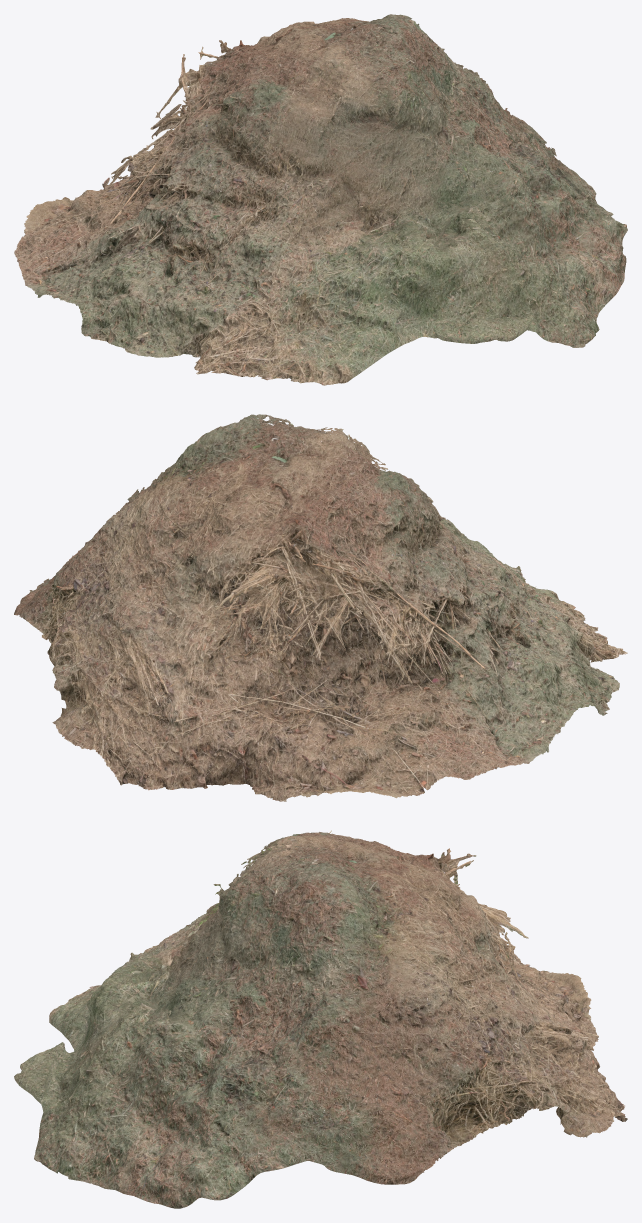
Rendered from sf-garden-grass-dump-73735e.glb.
The picture shows the model from 3 angles, top to bottom: view 1: azimuth 30°, elevation 25°; view 2: azimuth 150°, elevation 25°; view 3: azimuth 270°, elevation 25°; orthographic projection. The views are drawn at different scales.
Parts seen in each view (by area): view 1: Model_material0_0, Model_material1_0, Model_material2_0; view 2: Model_material0_0, Model_material1_0, Model_material2_0; view 3: Model_material0_0, Model_material2_0, Model_material1_0.
Boxes of the visible parts, box(x1,y1,x2,y2) form: Model_material0_0: box(15, 18, 627, 373); Model_material1_0: box(35, 14, 608, 385); Model_material2_0: box(14, 15, 613, 381); Model_material0_0: box(42, 414, 617, 793); Model_material1_0: box(14, 414, 627, 797); Model_material2_0: box(20, 415, 619, 801); Model_material0_0: box(34, 832, 624, 1208); Model_material2_0: box(14, 832, 627, 1186); Model_material1_0: box(32, 830, 617, 1184).
Size of the model in its own units: 2.01 by 0.9218 by 1.93.
Materials: 3 (3 with a texture image).
